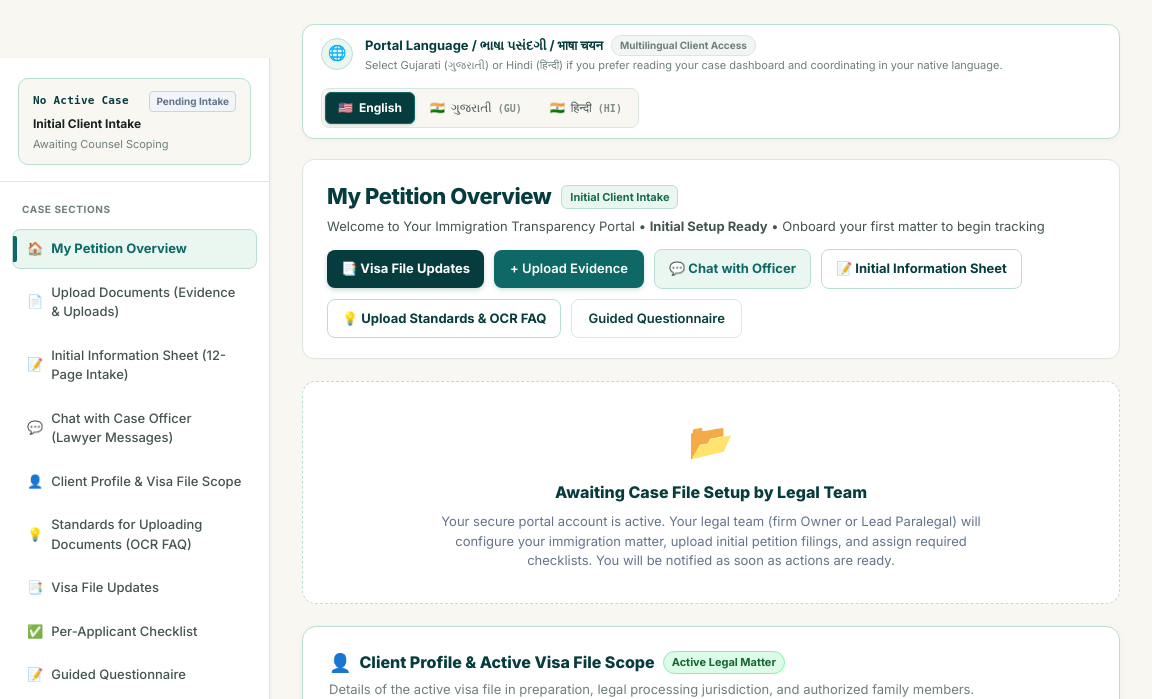
Test: Retained Client Security & Day-0 Clean Slate › 2. Clean Slate Day-0 Retained Client Portal View › renders Day-0 clean slate when navigating to Updates tab without assigned case
// Click on Updates tab in sidebar navigation
Click the text "Visa File Updates".
click(105, 588)  # box [51,578,159,598]
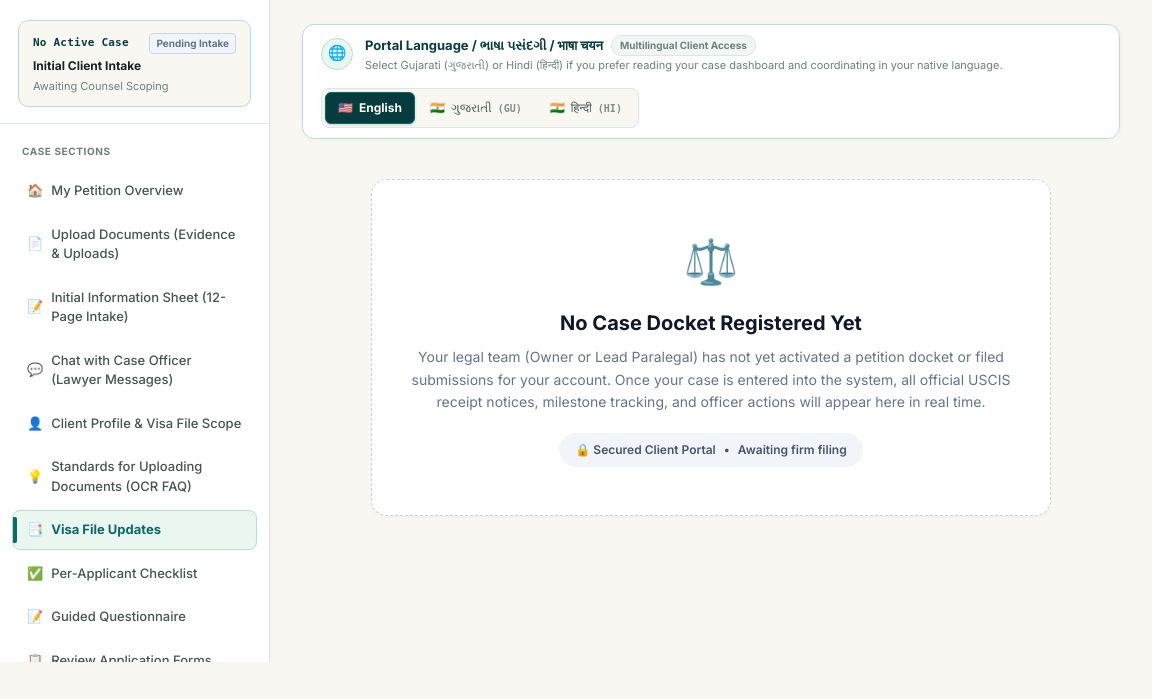
Expected: the element with test id "visa-updates-empty-state" is shown, [371,179,1051,516]
Expected: the heading "No Case Docket Registered Yet" is shown, [560,311,862,335]
Expected: the text "Your legal team (Owner or Lead Paralegal) has not yet activated a petition docket" is shown, [412,348,1010,410]
